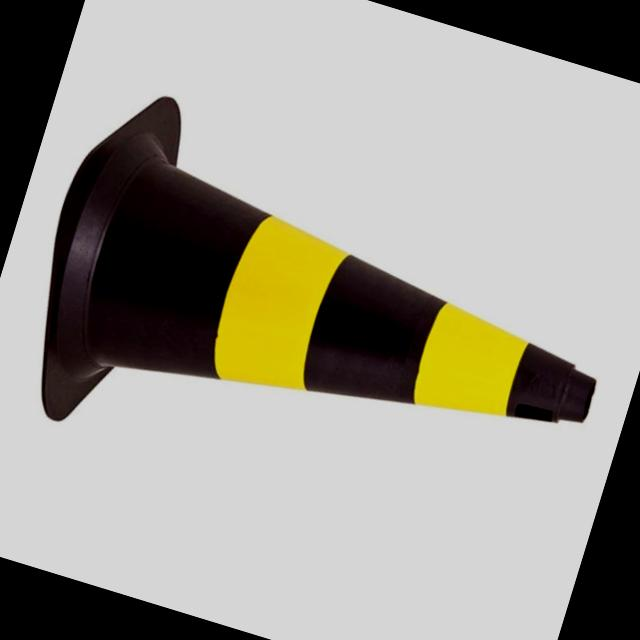cone: (19, 97, 638, 575)
